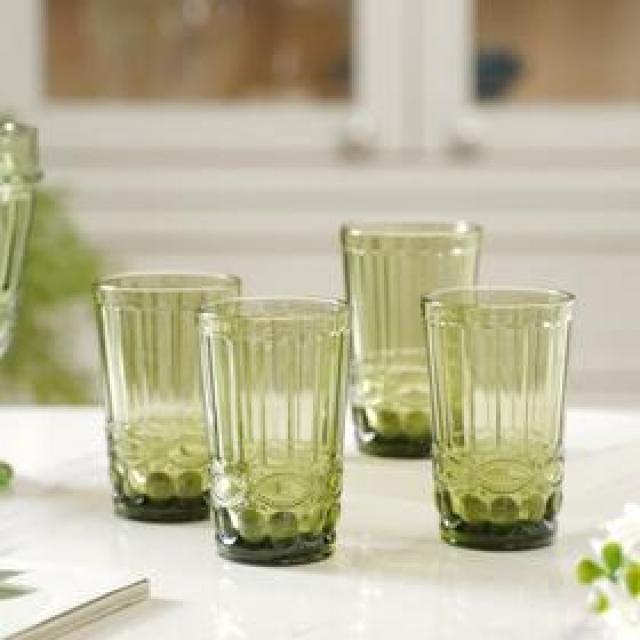glass: (198, 296, 354, 566)
